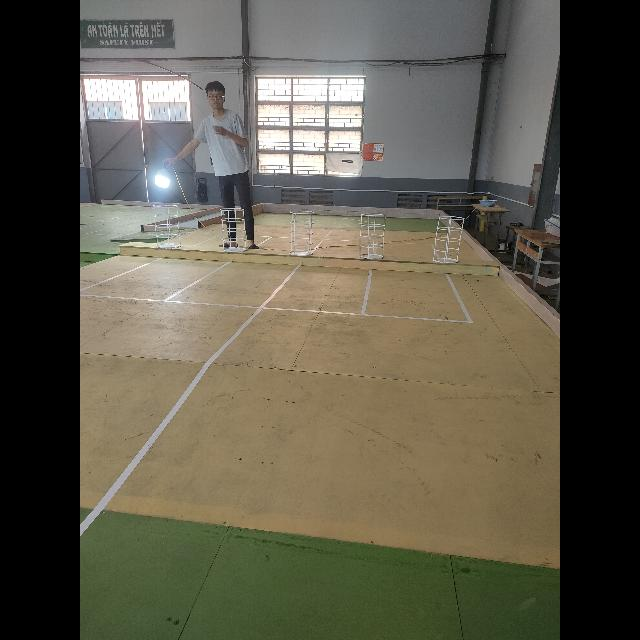S: (432, 215, 466, 263), (152, 204, 182, 248), (359, 212, 386, 260), (288, 210, 314, 256), (220, 208, 247, 252)
